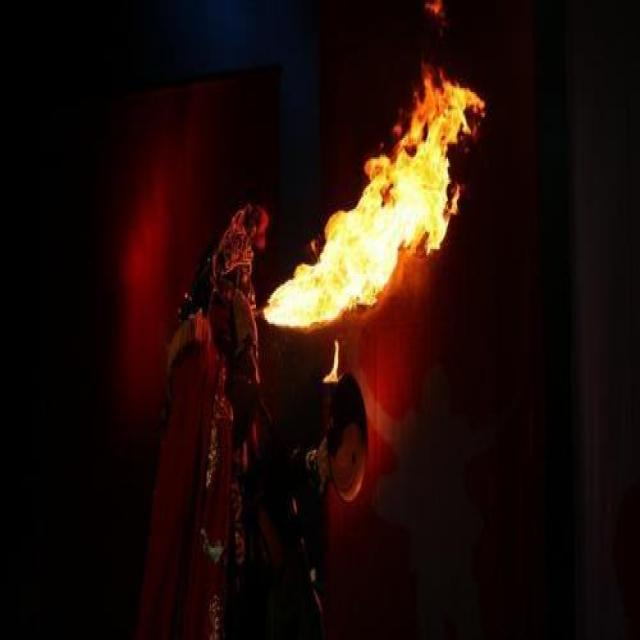fire: (243, 93, 503, 319)
